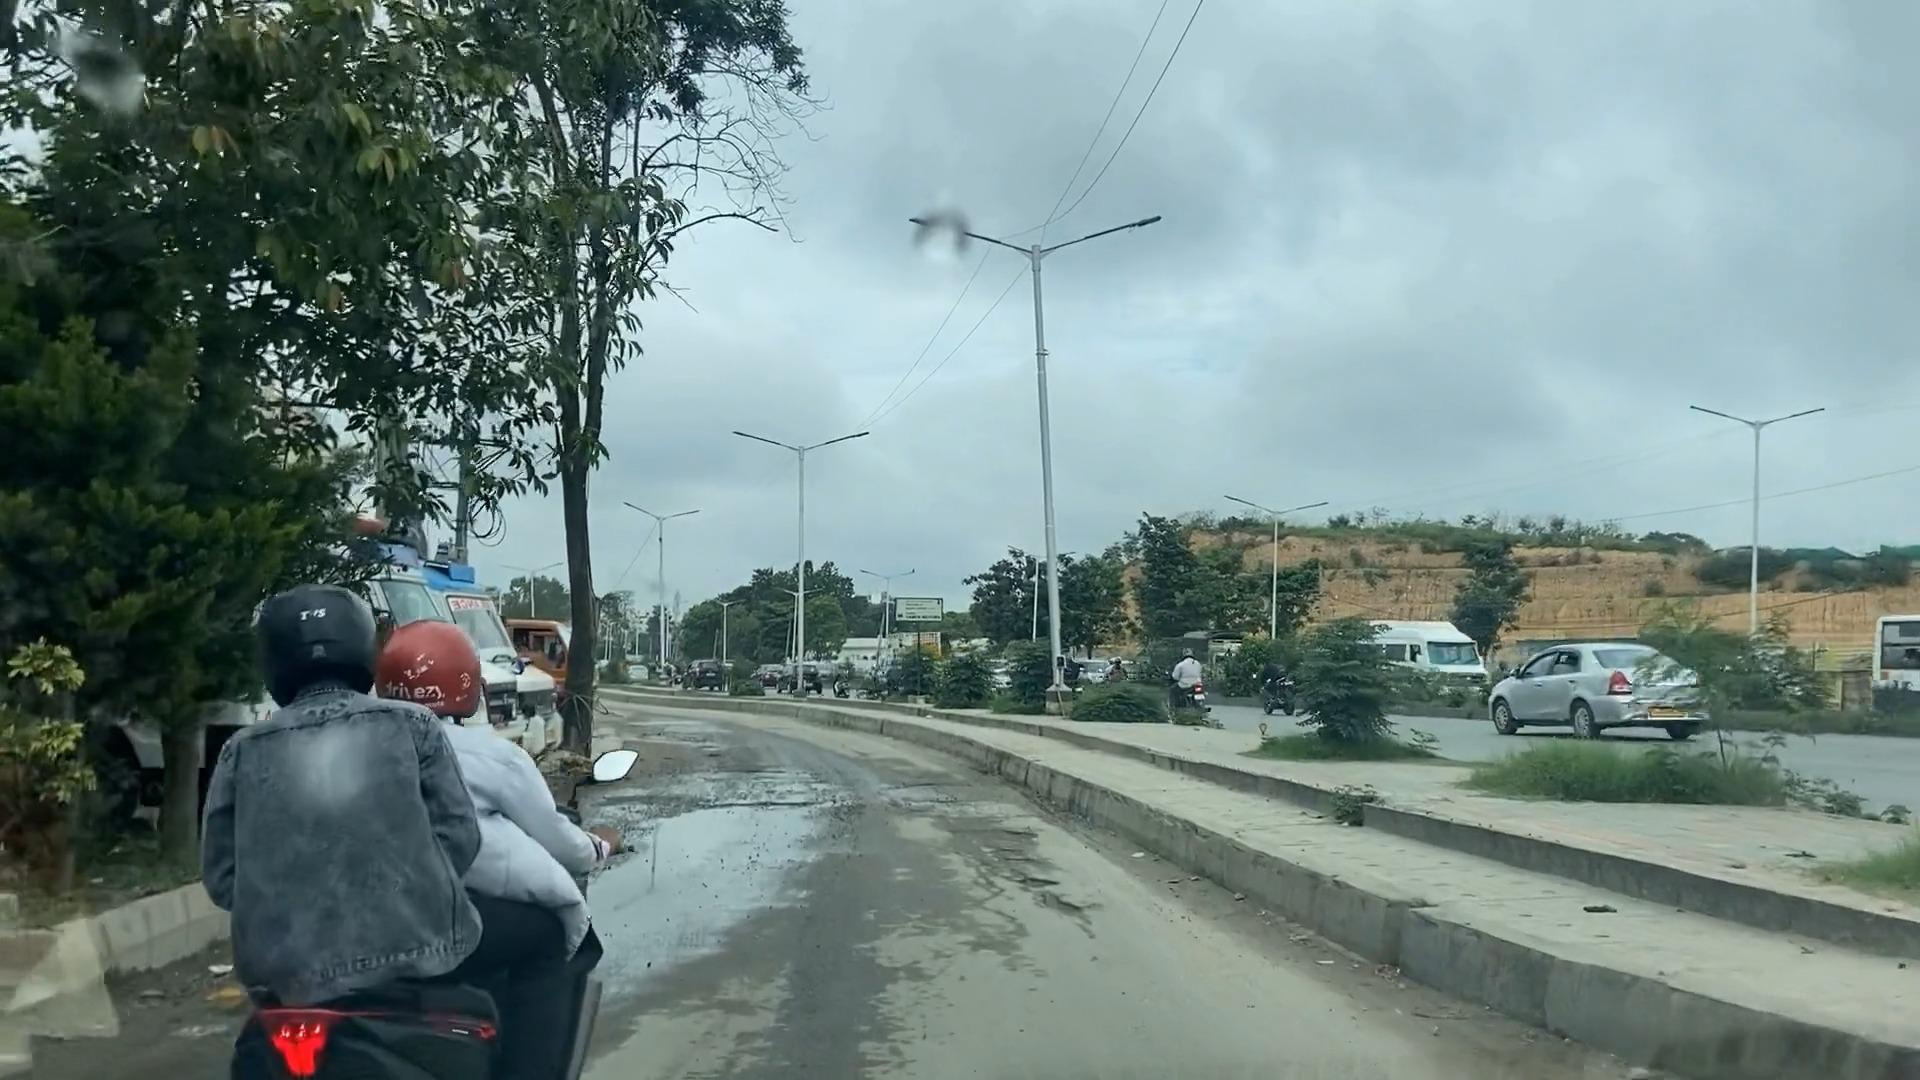RoadDamages: (949, 810, 1087, 938), (621, 746, 853, 818)
